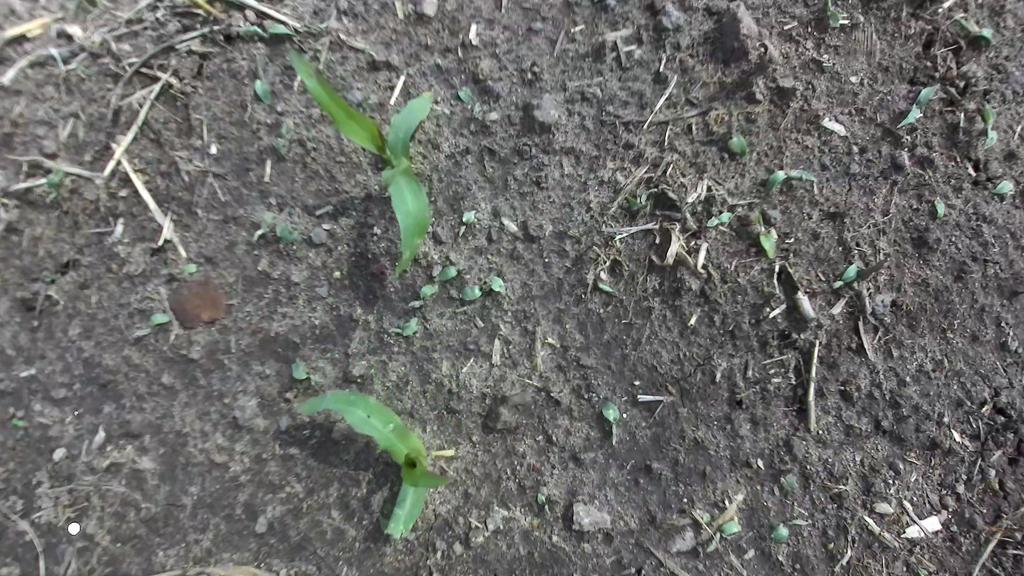BroWeed: (758, 151, 820, 214), (941, 5, 1002, 62), (896, 76, 941, 136), (747, 211, 783, 262), (699, 515, 744, 554), (596, 393, 629, 446), (249, 46, 276, 108), (229, 20, 298, 43), (129, 306, 173, 342), (434, 248, 470, 290), (36, 162, 69, 205), (828, 260, 865, 296), (247, 206, 279, 246), (407, 278, 441, 314), (387, 315, 424, 345), (270, 216, 302, 249), (287, 356, 321, 385), (687, 493, 715, 527), (778, 461, 800, 500), (451, 71, 476, 105), (456, 206, 480, 240), (726, 132, 751, 162), (486, 271, 510, 301), (592, 279, 626, 299), (978, 97, 999, 129), (767, 519, 792, 545), (704, 210, 734, 229), (460, 283, 491, 301), (535, 490, 553, 520), (620, 194, 645, 215), (983, 124, 999, 151), (160, 263, 199, 274), (932, 194, 948, 220), (991, 179, 1016, 195), (466, 428, 485, 448), (909, 561, 930, 576), (10, 417, 31, 429), (769, 224, 781, 241), (529, 516, 541, 530)
Maize: (284, 356, 463, 546)
